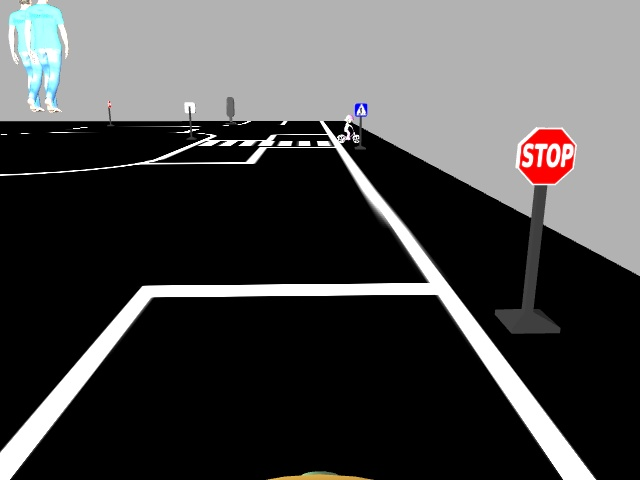Stop: (515, 125, 575, 186)
